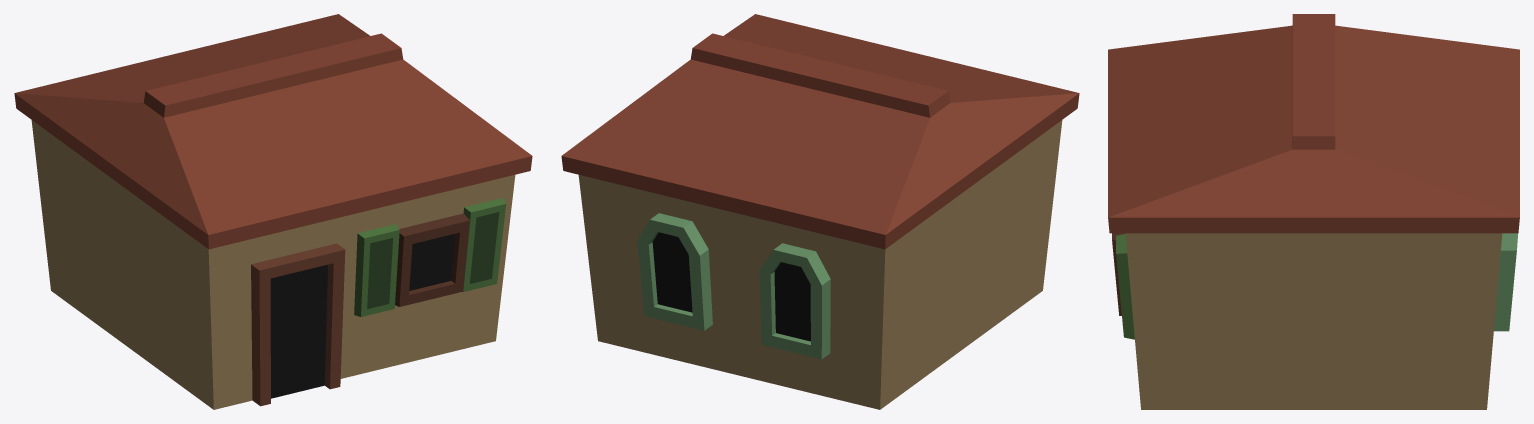
File: House_Tiny3.fbx
3 views of the same model, side by side, from view 1: azimuth 30°, elevation 25°; view 2: azimuth 150°, elevation 25°; view 3: azimuth 270°, elevation 25° (orthographic). The views are drawn at different scales.
Parts seen in each view (by area): view 1: SM_Bld_Pirates_House_01; view 2: SM_Bld_Pirates_House_01; view 3: SM_Bld_Pirates_House_01.
Boxes of the visible parts, <box> form: SM_Bld_Pirates_House_01: <box>14,14,532,409</box>; SM_Bld_Pirates_House_01: <box>561,14,1079,409</box>; SM_Bld_Pirates_House_01: <box>1108,14,1519,409</box>.
Bounding box in the file's own units: 103 × 74.99 × 107.
